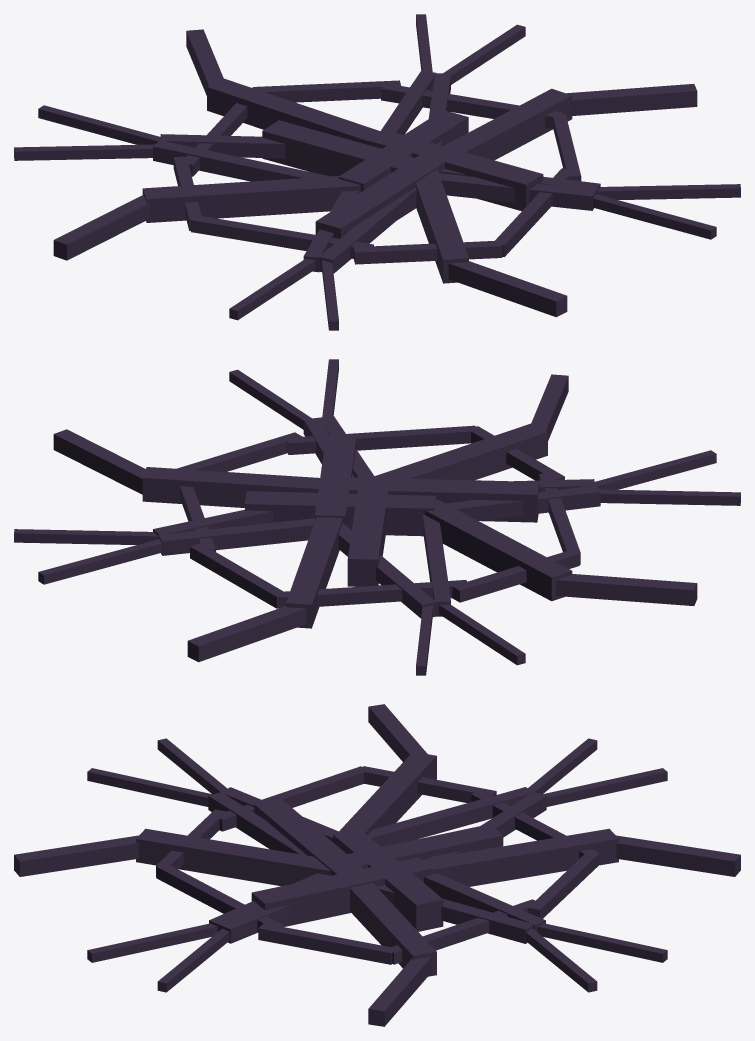
The model's file is CMU3DHiveXenoFastResin.glb.
3 views of the same model, one above another, from view 1: azimuth 30°, elevation 25°; view 2: azimuth 150°, elevation 25°; view 3: azimuth 270°, elevation 25° (orthographic).
Visible parts, largest first — view 1: connected ground rhizome (×12), forked ground filament (×16), interwoven root loop (×8); view 2: connected ground rhizome (×12), forked ground filament (×16), interwoven root loop (×8); view 3: connected ground rhizome (×12), forked ground filament (×16), interwoven root loop (×8).
Boxes of the visible parts, x1,y1,x2,y2 form: connected ground rhizome (×12): (53, 29, 697, 317); forked ground filament (×16): (14, 14, 740, 330); interwoven root loop (×8): (173, 80, 581, 264); connected ground rhizome (×12): (53, 374, 697, 662); forked ground filament (×16): (14, 359, 740, 675); interwoven root loop (×8): (177, 425, 580, 608); connected ground rhizome (×12): (14, 704, 740, 1026); forked ground filament (×16): (87, 738, 667, 992); interwoven root loop (×8): (156, 766, 598, 964).
Size of the model in its own units: 1.02 by 0.042 by 1.02.
